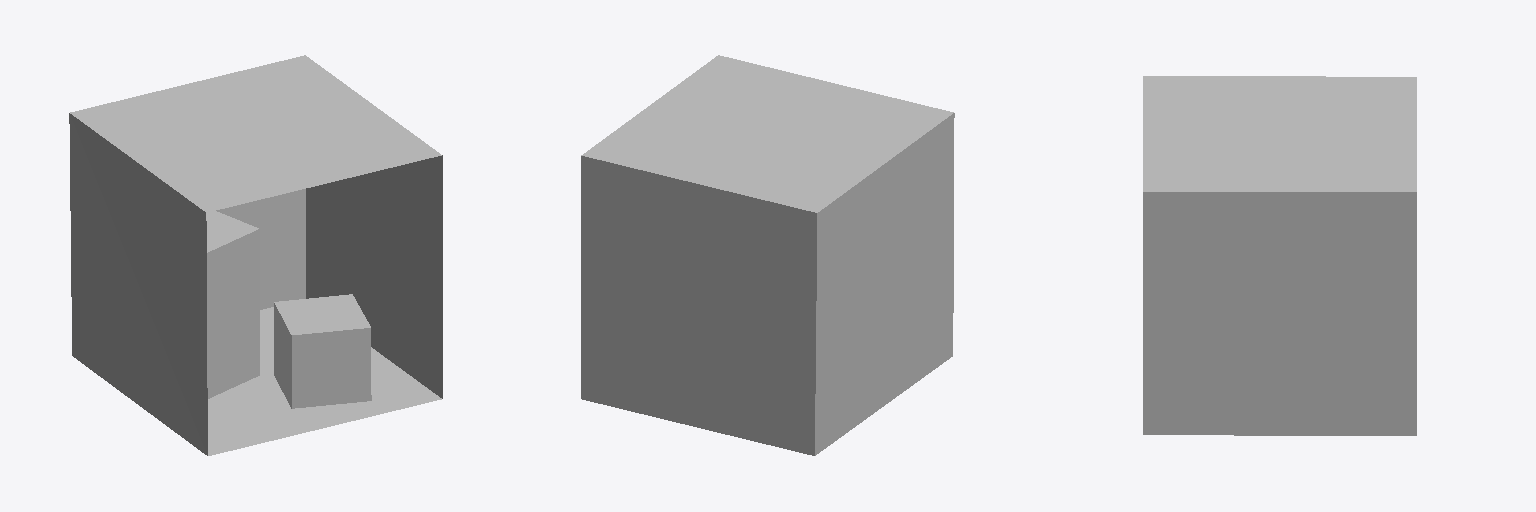
The model's file is cornell-box-edited.obj.
The picture shows the model from 3 angles: view 1: azimuth 30°, elevation 25°; view 2: azimuth 150°, elevation 25°; view 3: azimuth 270°, elevation 25°; orthographic projection.
Parts seen in each view (by area): view 1: left_wall, ceiling, right_wall, floor, short_box, tall_box, back_wall; view 2: back_wall, left_wall, ceiling; view 3: right_wall, ceiling.
Boxes of the visible parts, <box> form: left_wall: <box>69,113,207,455</box>; ceiling: <box>70,55,441,212</box>; right_wall: <box>306,155,442,398</box>; floor: <box>208,307,441,455</box>; short_box: <box>274,294,371,408</box>; tall_box: <box>206,211,259,398</box>; back_wall: <box>216,189,305,309</box>; back_wall: <box>581,156,816,455</box>; left_wall: <box>815,113,954,455</box>; ceiling: <box>581,55,953,212</box>; right_wall: <box>1143,192,1416,435</box>; ceiling: <box>1143,76,1416,191</box>.
Size of the model in its own units: 5.56 by 5.49 by 5.6.